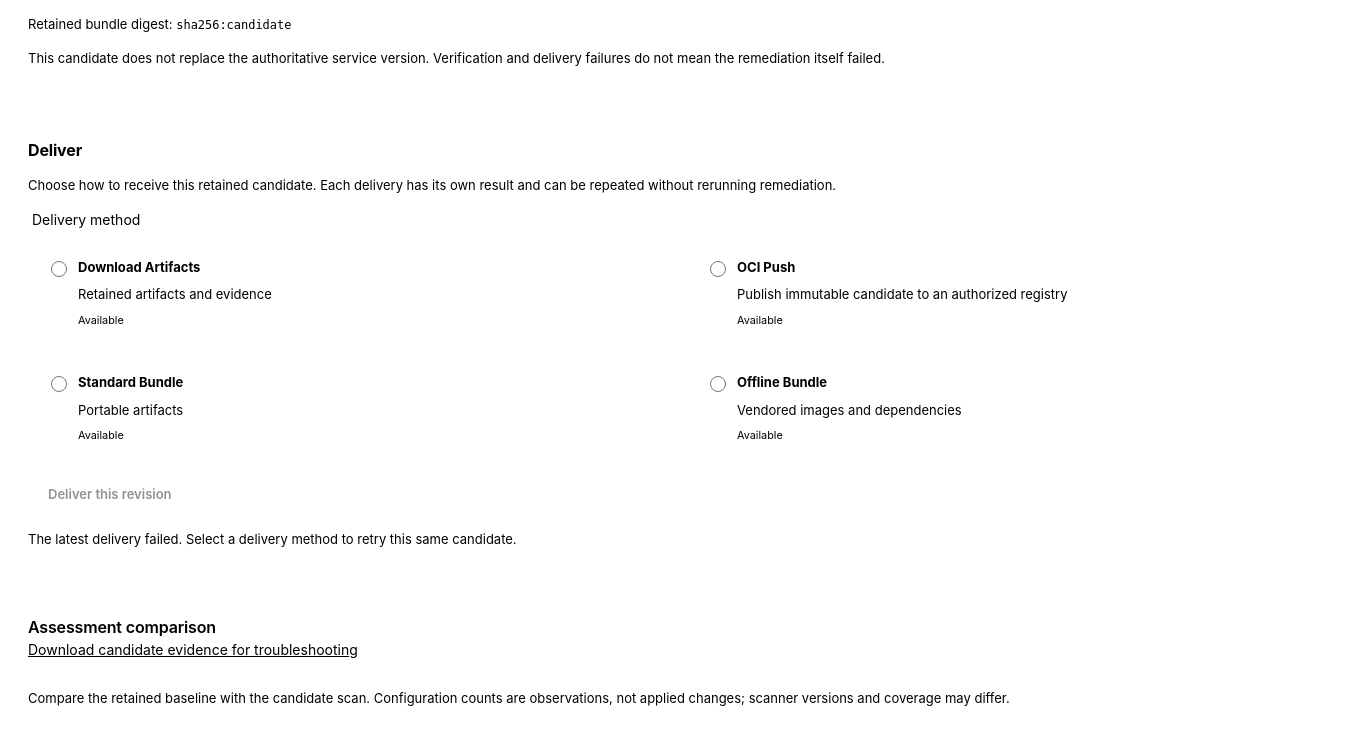
preserves successful remediation and prior deliveries when a later operation fails
This screenshot has width=1366, height=755.
(page scrolled)
Expected: the text "latest delivery failed" is shown, [28,531,517,547]
Click the radio button labelled "Offline Bundle Vendored images and dependencies Available" at (718, 384), box [710,376,726,392]
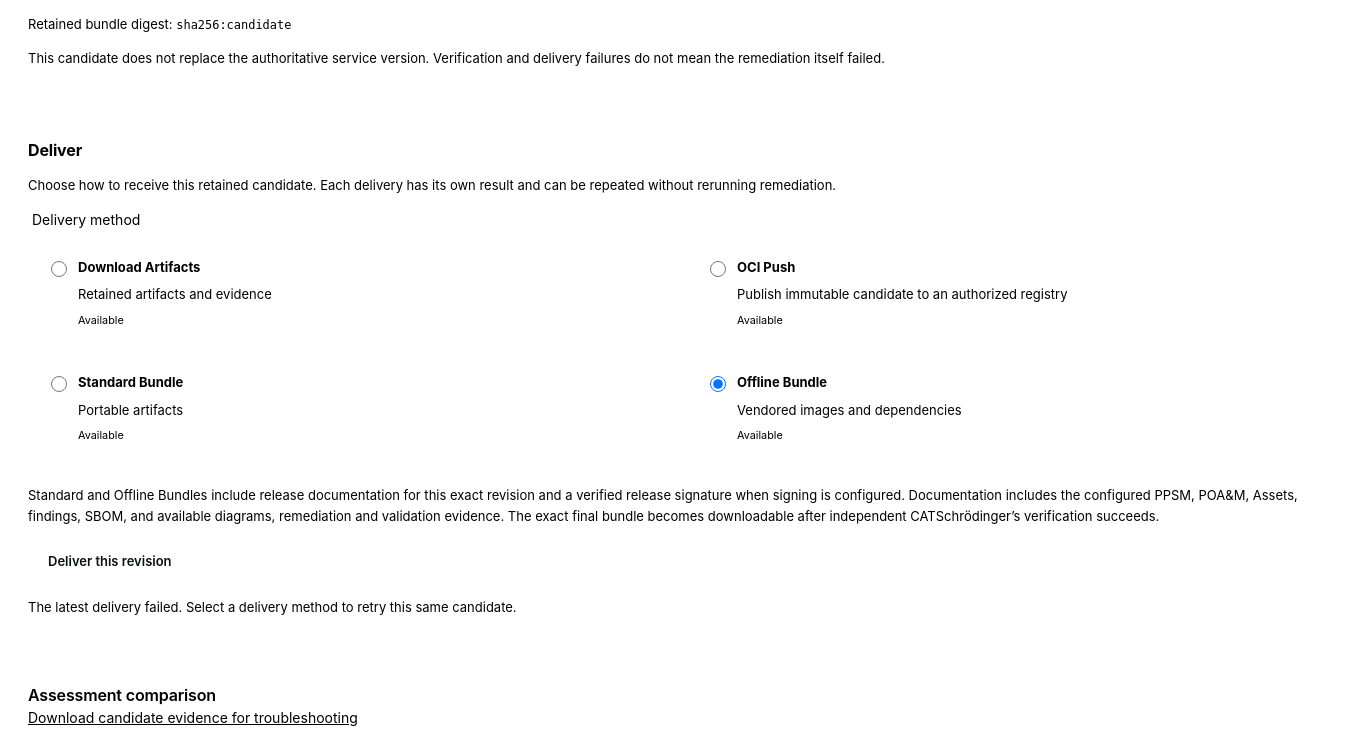
Expected: the button "Deliver this revision" is enabled, [32,544,188,580]
